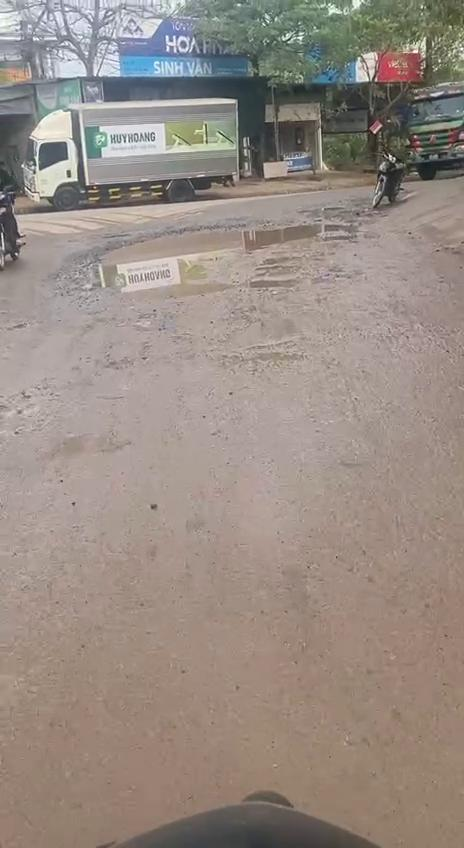pothole: (65, 220, 360, 304)
